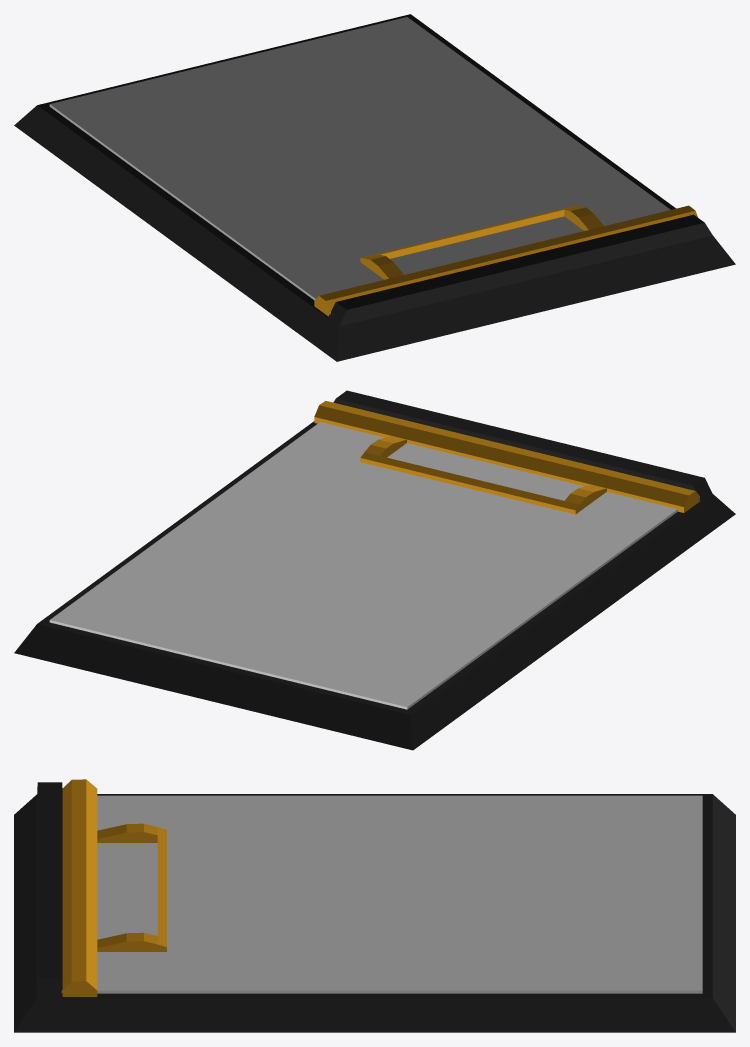
File: Clipboard.fbx
The picture shows the model from 3 angles, top to bottom: view 1: azimuth 30°, elevation 25°; view 2: azimuth 150°, elevation 25°; view 3: azimuth 270°, elevation 25°; orthographic projection. The views are drawn at different scales.
Visible parts, largest first — view 1: Node 0, Node 1; view 2: Node 0, Node 1; view 3: Node 0, Node 1.
Boxes of the visible parts, bbox=[...] form: Node 0: bbox=[14, 14, 735, 361]; Node 1: bbox=[314, 205, 697, 316]; Node 0: bbox=[14, 390, 735, 750]; Node 1: bbox=[314, 401, 699, 514]; Node 0: bbox=[14, 782, 735, 1032]; Node 1: bbox=[61, 779, 166, 996].
Bounding box in the file's own units: 0.36 × 0.0241 × 0.2569.
